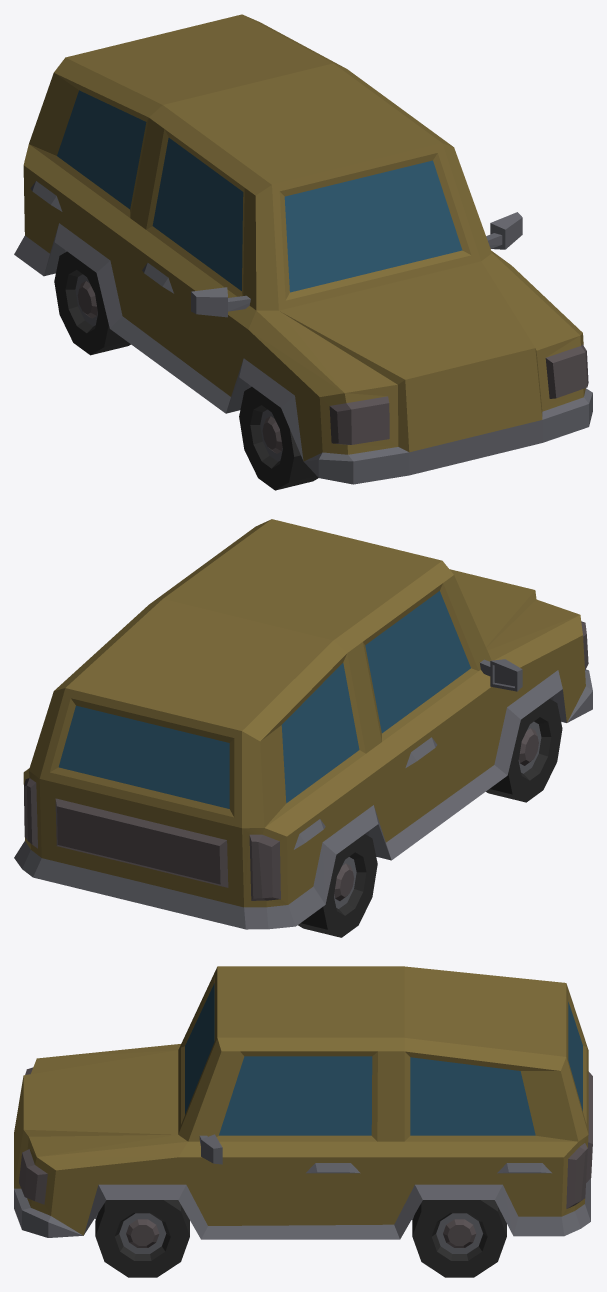
The model's file is LP_VehicleB.fbx.
3 renders of one model, top to bottom at view 1: azimuth 30°, elevation 25°; view 2: azimuth 150°, elevation 25°; view 3: azimuth 270°, elevation 25°, orthographic. The views are drawn at different scales.
Parts seen in each view (by area): view 1: VehicleB; view 2: VehicleB; view 3: VehicleB.
Part boxes in pixels (x1,y1,x2,y2): VehicleB: (14, 14, 592, 490); VehicleB: (14, 519, 592, 937); VehicleB: (14, 966, 592, 1277).
Size of the model in its own units: 187 by 140 by 335.
